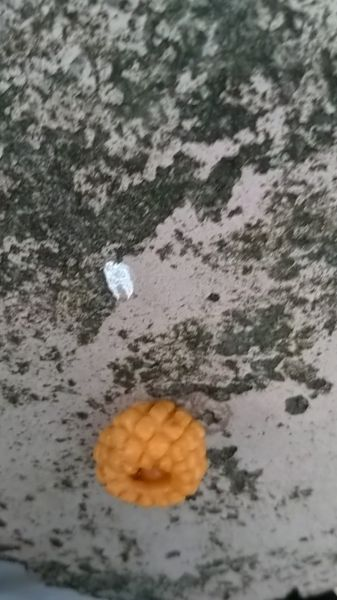eggs: (86, 389, 212, 512)
